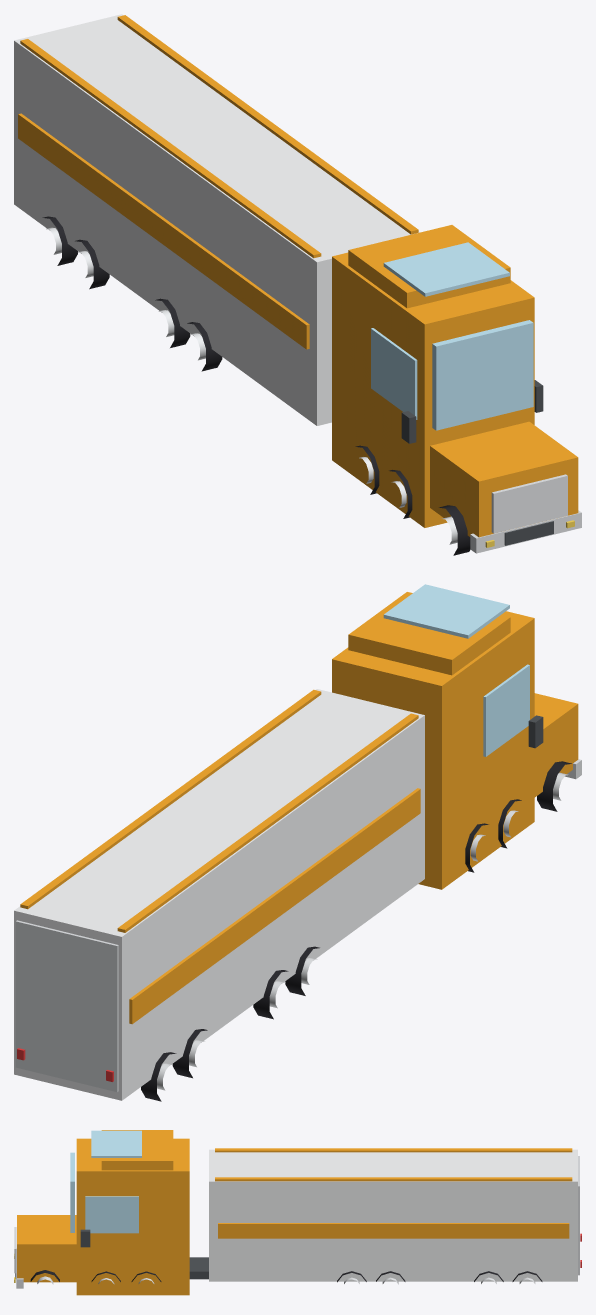
The model's file is semi.glb.
3 views of the same model, one above another, from view 1: azimuth 30°, elevation 25°; view 2: azimuth 150°, elevation 25°; view 3: azimuth 270°, elevation 25° (orthographic). The views are drawn at different scales.
Parts seen in each view (by area): view 1: semi; view 2: semi; view 3: semi.
Boxes of the visible parts, bbox=[...] form: semi: bbox=[14, 14, 581, 555]; semi: bbox=[14, 584, 581, 1101]; semi: bbox=[14, 1130, 581, 1295].
Size of the model in its own units: 3.16 by 5.18 by 19.08.
